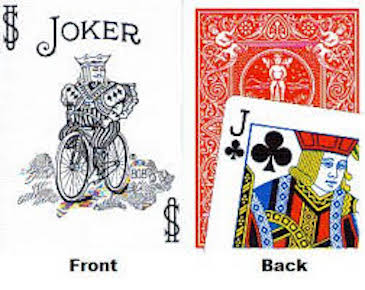JackOfClubs: (202, 91, 365, 259)
